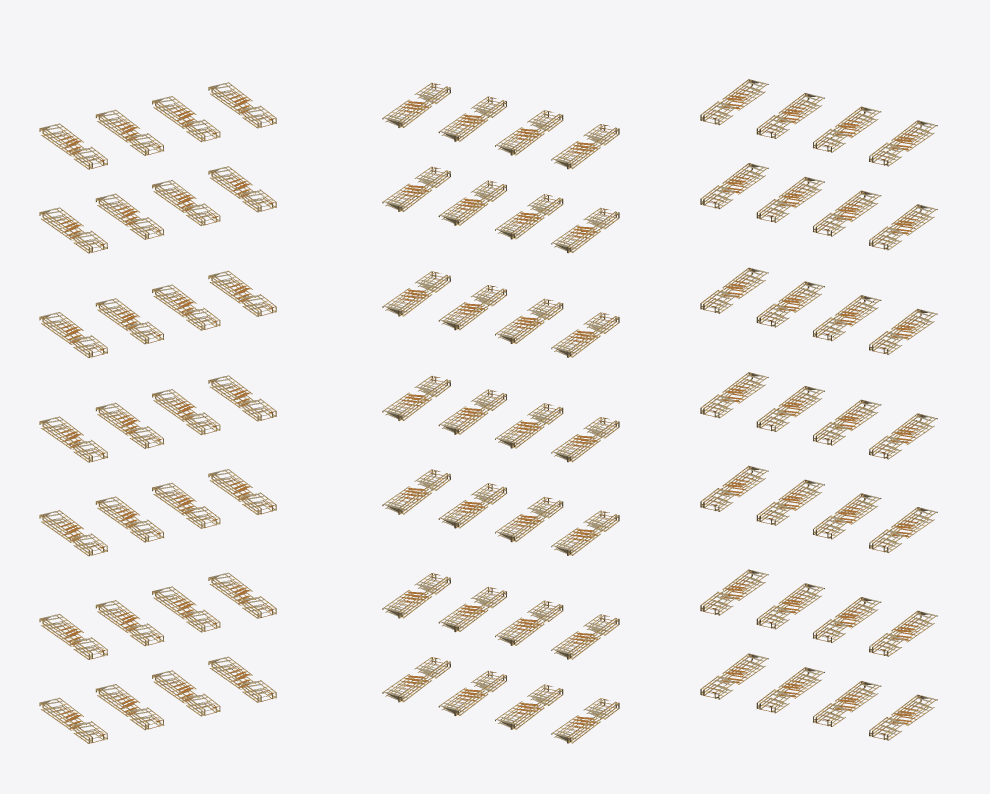
File: pinewoodRackFullHeight.obj
3 renders of one model, left to right at view 1: azimuth 30°, elevation 25°; view 2: azimuth 150°, elevation 25°; view 3: azimuth 330°, elevation 25°, orthographic.
Parts seen in each view (by area): view 1: rack; view 2: rack; view 3: rack.
Part boxes in pixels (x1,y1,x2,y2): rack: [39, 82, 276, 743]; rack: [382, 82, 619, 743]; rack: [700, 79, 937, 740].
Size of the model in its own units: 89.8 by 227 by 30.17.
